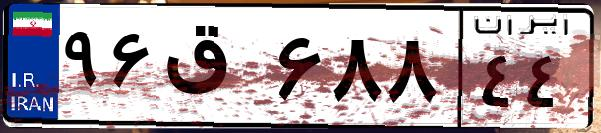4: (475, 38, 525, 113), (525, 38, 570, 115)
6: (270, 28, 330, 110), (110, 28, 158, 98)
8: (385, 28, 445, 110), (330, 28, 385, 110)
9: (57, 26, 110, 100)
ق: (158, 20, 270, 120)
